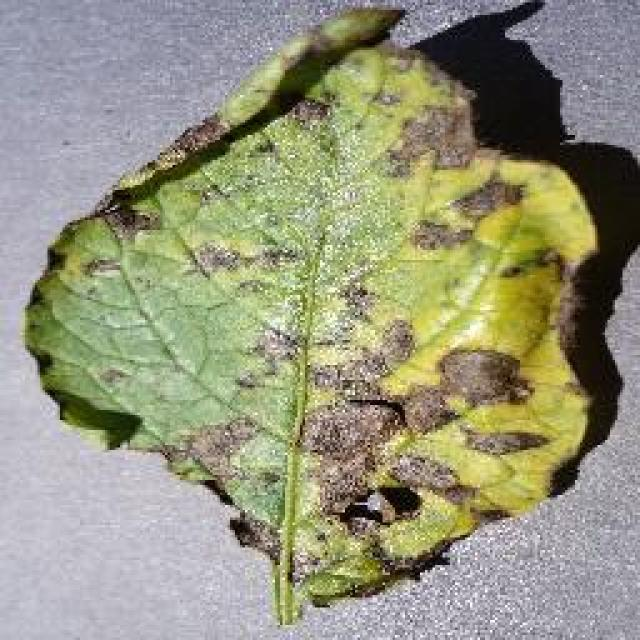early_blight: (20, 3, 605, 625)
